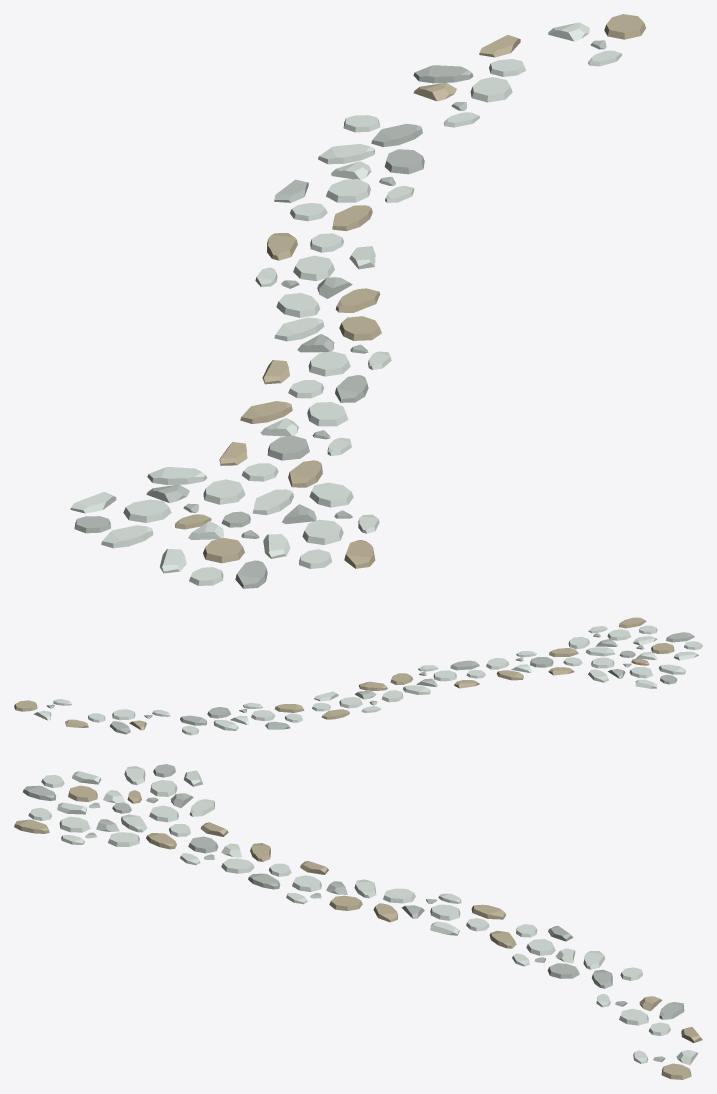
File: RockPath_B.fbx
The picture shows the model from 3 angles, top to bottom: view 1: azimuth 30°, elevation 25°; view 2: azimuth 150°, elevation 25°; view 3: azimuth 270°, elevation 25°; orthographic projection. The views are drawn at different scales.
Visible parts, largest first — view 1: RockPath_A.011, RockPath_A.007, RockPath_A.010, RockPath_A.009, RockPath_A.008, RockPath_A.006, RockPath_A.005; view 2: RockPath_A.011, RockPath_A.008, RockPath_A.009, RockPath_A.010, RockPath_A.007, RockPath_A.006, RockPath_A.005; view 3: RockPath_A.011, RockPath_A.008, RockPath_A.009, RockPath_A.010, RockPath_A.007, RockPath_A.006, RockPath_A.005.
Boxes of the visible parts, x1,y1,x2,y2 form: RockPath_A.011: (70, 467, 379, 588); RockPath_A.007: (274, 144, 424, 231); RockPath_A.010: (219, 401, 351, 487); RockPath_A.009: (262, 316, 391, 402); RockPath_A.008: (255, 233, 380, 317); RockPath_A.006: (343, 65, 512, 147); RockPath_A.005: (479, 14, 645, 76); RockPath_A.011: (568, 617, 702, 688); RockPath_A.008: (312, 681, 403, 719); RockPath_A.009: (390, 660, 485, 694); RockPath_A.010: (486, 648, 582, 680); RockPath_A.007: (207, 702, 304, 730); RockPath_A.006: (109, 709, 206, 735); RockPath_A.005: (14, 699, 105, 727); RockPath_A.011: (14, 764, 214, 846); RockPath_A.008: (373, 888, 505, 935); RockPath_A.009: (248, 861, 376, 910); RockPath_A.010: (146, 822, 270, 873); RockPath_A.007: (489, 924, 604, 978); RockPath_A.006: (592, 967, 684, 1025); RockPath_A.005: (633, 1022, 702, 1079).
Size of the model in its own units: 2224 by 15.42 by 2066.
